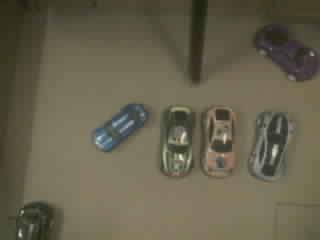Car: (256, 25, 316, 77), (249, 111, 292, 180), (93, 103, 148, 151), (160, 105, 194, 176), (201, 106, 235, 176), (15, 201, 53, 239)
